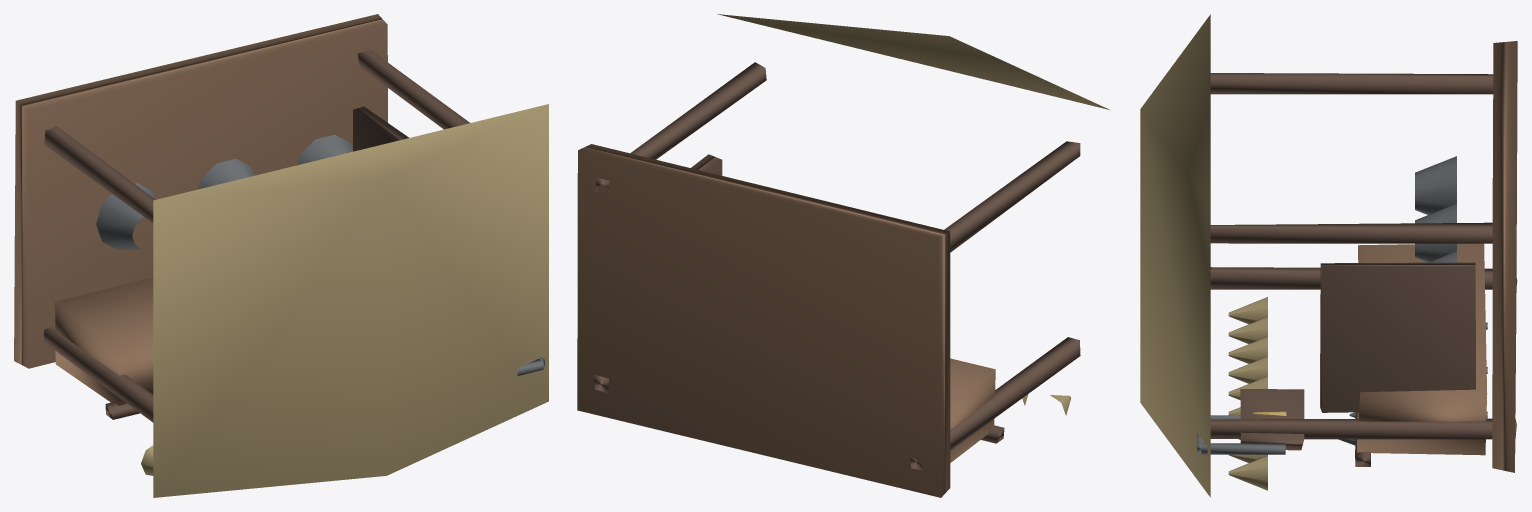
Rendered from weapon_stall_hd.glb.
The picture shows the model from 3 angles, left to right: view 1: azimuth 30°, elevation 25°; view 2: azimuth 150°, elevation 25°; view 3: azimuth 270°, elevation 25°; orthographic projection.
Bounding box in the file's own units: 4.8 × 3.55 × 4.02.
